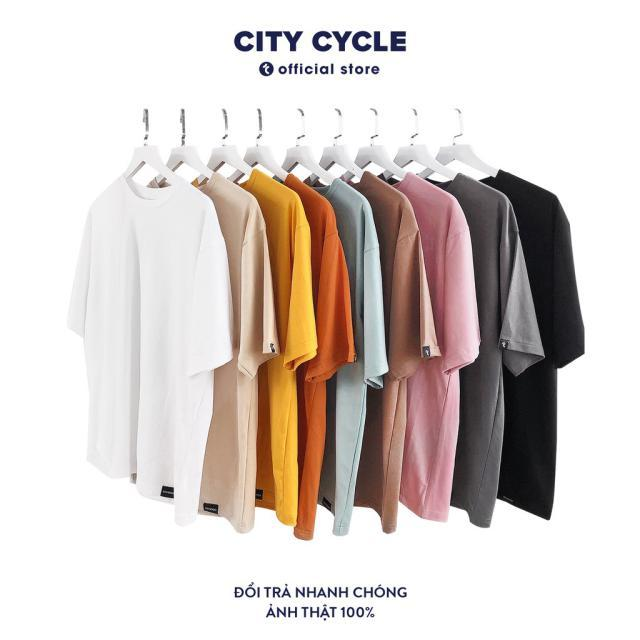Shirt: (63, 175, 229, 510)
